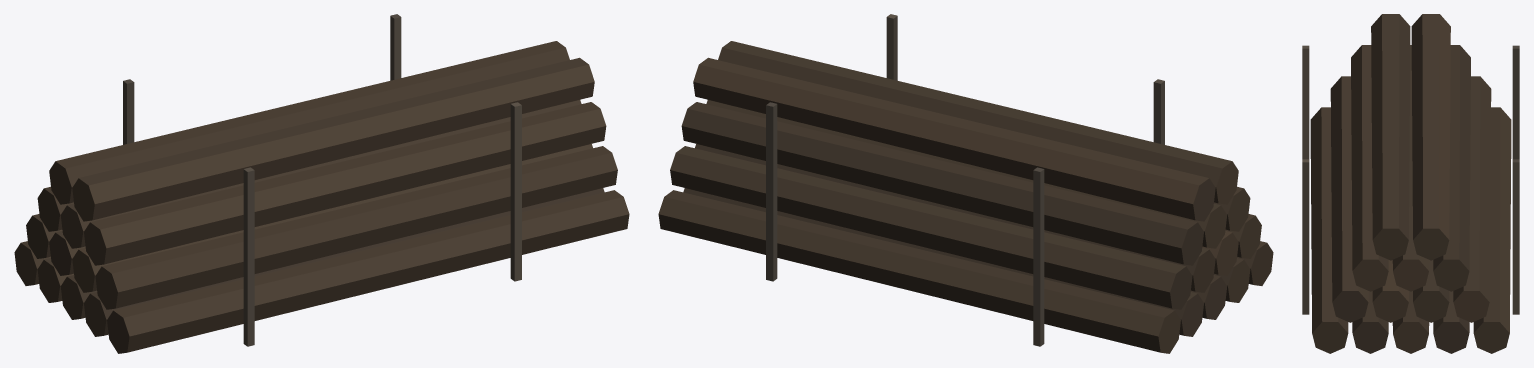
The model's file is walk_prop_log_pile.glb.
The picture shows the model from 3 angles, left to right: view 1: azimuth 30°, elevation 25°; view 2: azimuth 150°, elevation 25°; view 3: azimuth 270°, elevation 25°; orthographic projection. The views are drawn at different scales.
Parts seen in each view (by area): view 1: walk_prop_log_pile; view 2: walk_prop_log_pile; view 3: walk_prop_log_pile.
Boxes of the visible parts, box(x1,y1,x2,y2) form: walk_prop_log_pile: box(14, 14, 629, 353); walk_prop_log_pile: box(658, 14, 1273, 353); walk_prop_log_pile: box(1302, 14, 1519, 353).
Size of what is drawn, in the model's own units: 6 by 2 by 2.58.
Materials: 1 (1 with a texture image).
